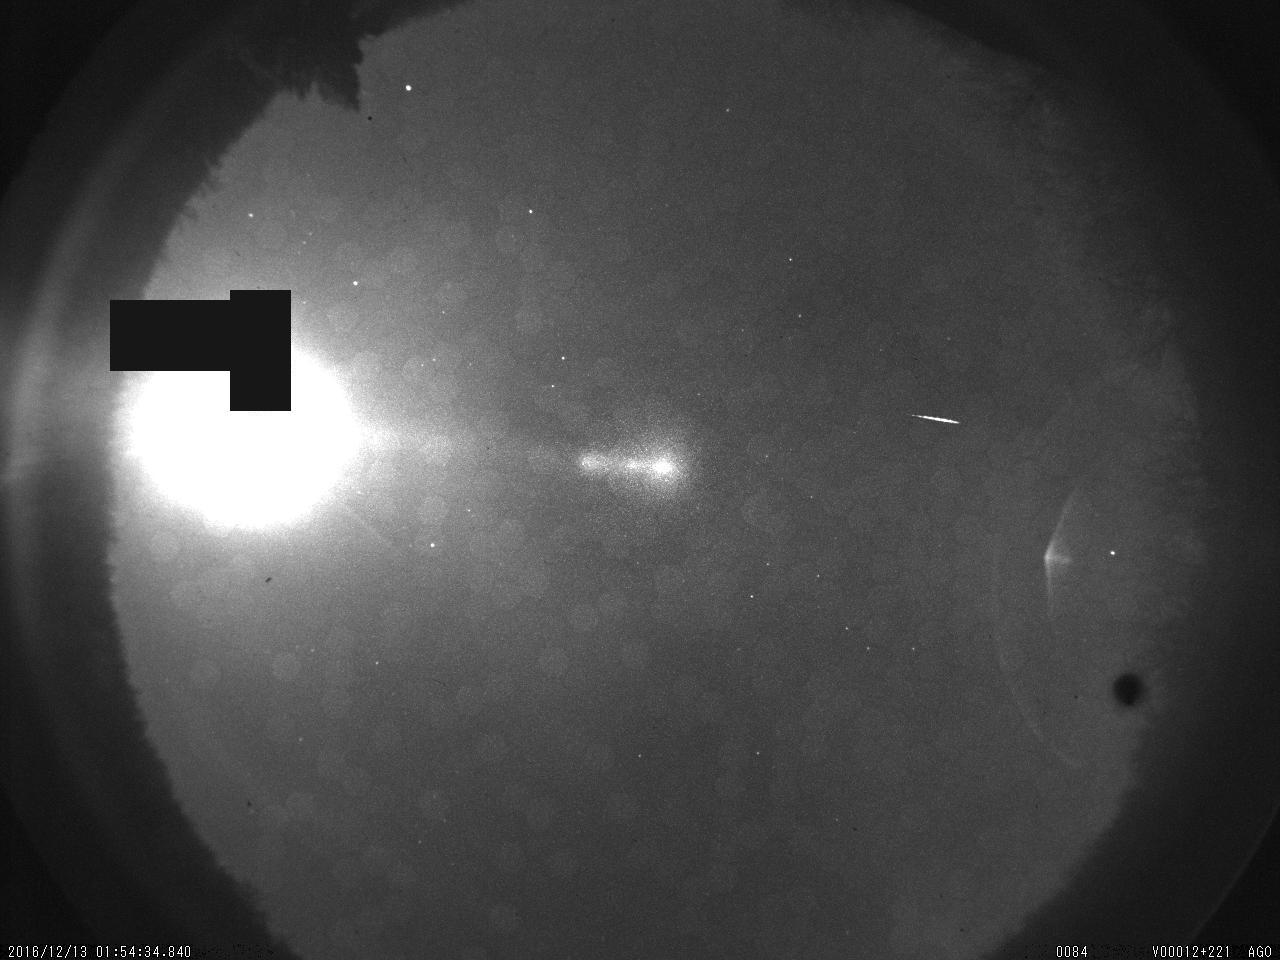meteor: (897, 400, 966, 434)
